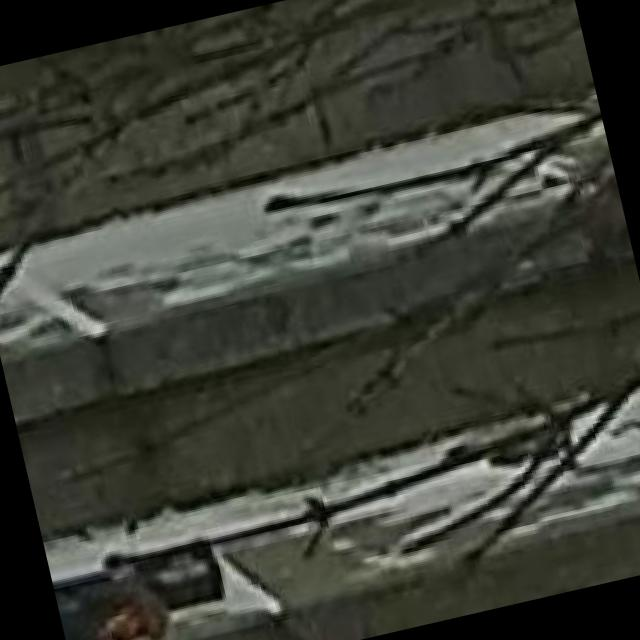Guns: (44, 507, 255, 640)
